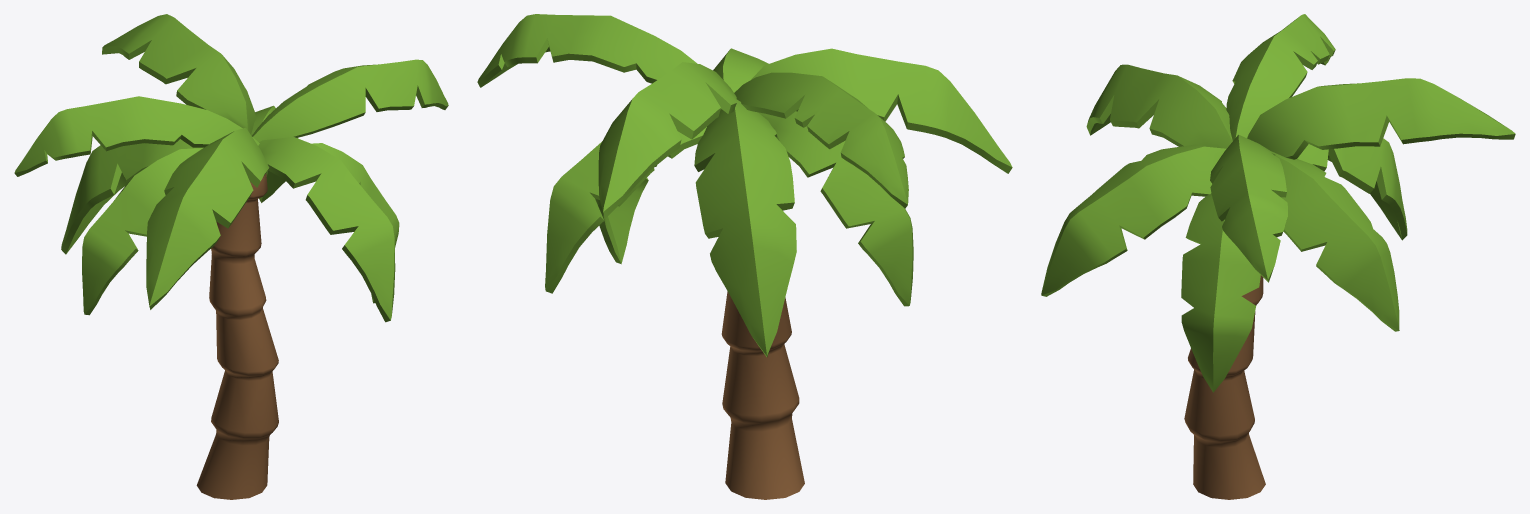
Rendered from Environment_PalmTree_3.gltf.
3 views of the same model, side by side, from view 1: azimuth 30°, elevation 25°; view 2: azimuth 150°, elevation 25°; view 3: azimuth 270°, elevation 25° (orthographic). The views are drawn at different scales.
Visible parts, largest first — view 1: Environment_PalmTree_3; view 2: Environment_PalmTree_3; view 3: Environment_PalmTree_3.
Part boxes in pixels (x1=…): Environment_PalmTree_3: x1=14, y1=14, x2=448, y2=499; Environment_PalmTree_3: x1=477, y1=14, x2=1012, y2=499; Environment_PalmTree_3: x1=1041, y1=14, x2=1515, y2=499.
Bounding box in the file's own units: 2.86 × 2.69 × 2.75.
1 material, 1 textured.
